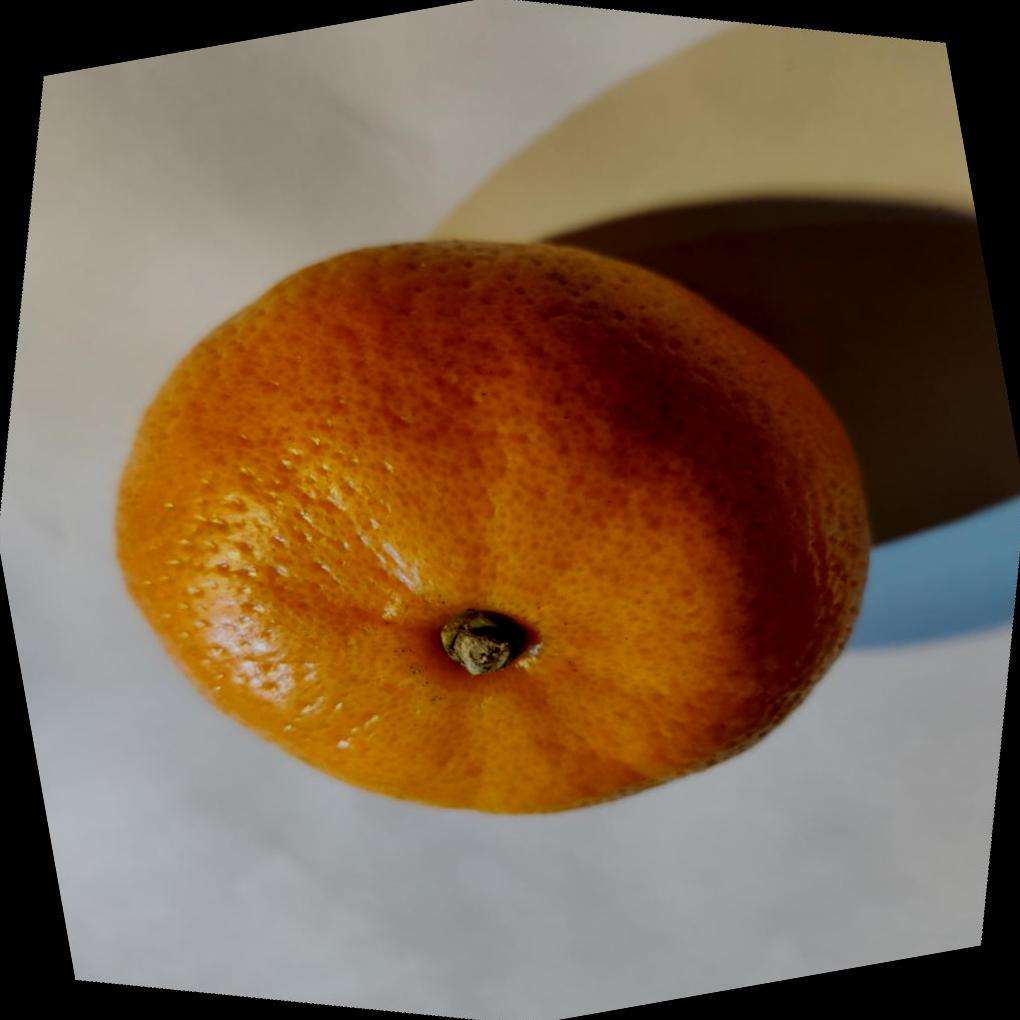FreshGuava: (115, 235, 881, 817)
